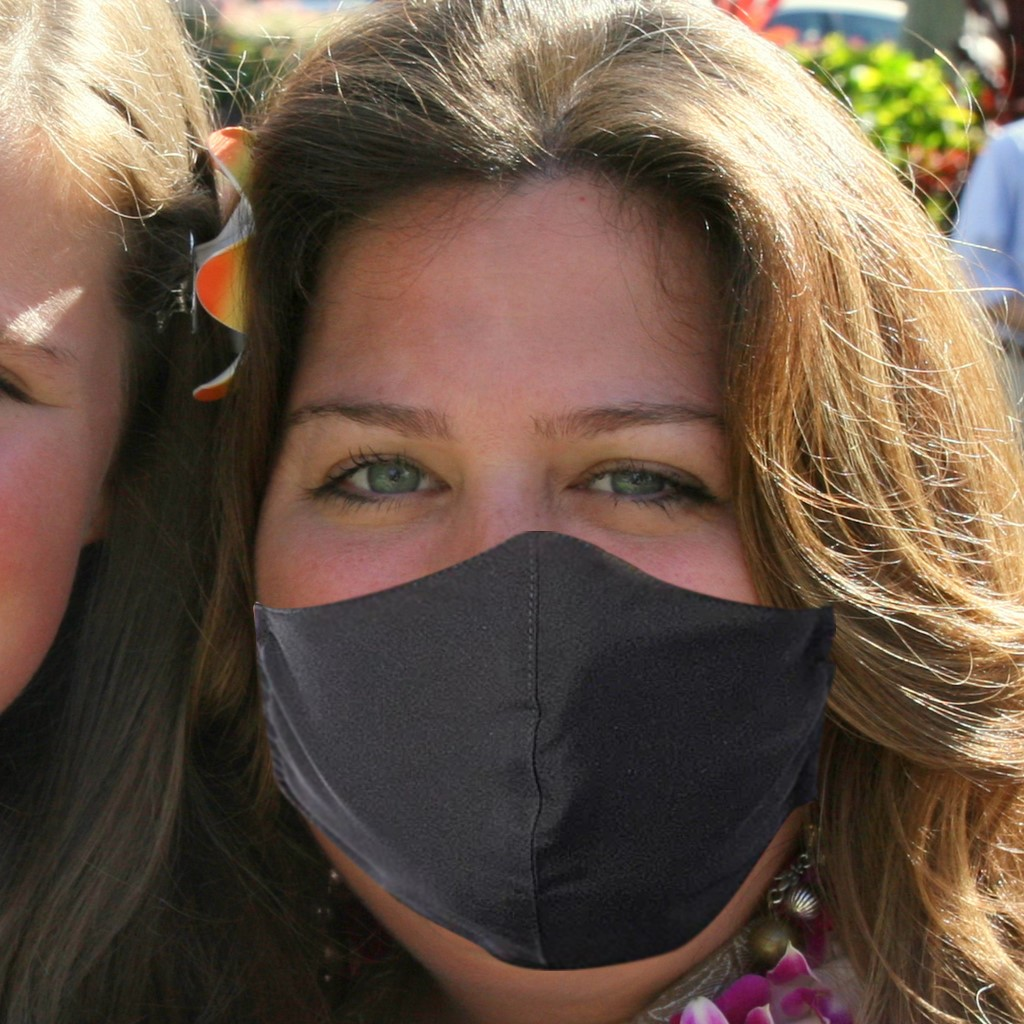con_mascara: (261, 137, 817, 985)
